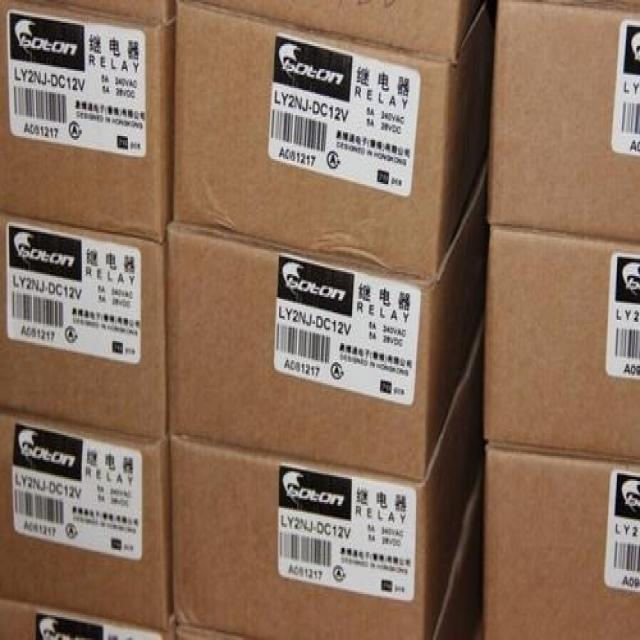box: (166, 156, 492, 480), (167, 311, 486, 638), (174, 1, 497, 282), (0, 0, 177, 240), (0, 404, 173, 632), (0, 211, 167, 434), (484, 224, 638, 460), (489, 1, 639, 243), (484, 440, 638, 638), (190, 1, 487, 64), (433, 467, 484, 638), (0, 595, 175, 638)
